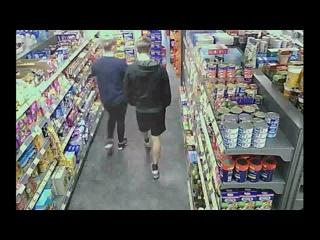Normal: (124, 37, 172, 179), (91, 39, 129, 154), (124, 61, 162, 108)
